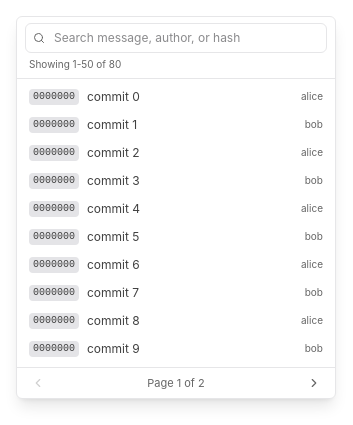
CommitPicker — multi-page history › shows 'No matching commits' when search yields zero results
Type "no-such-substring" into the field with placeholder "Search message, author, or hash" at (176, 38), box [25,23,327,53]
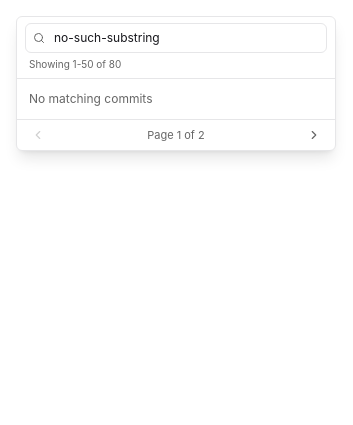
Result: the text "No matching commits" is shown at [29,91,152,106]
Result: no options are shown
